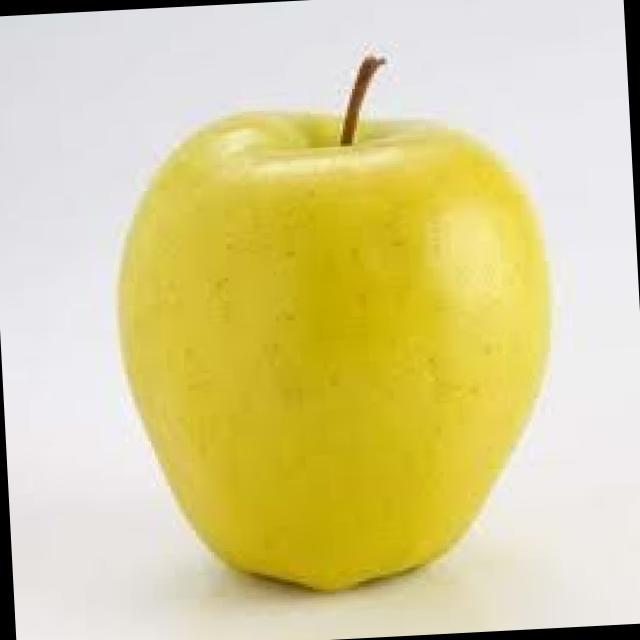Apple: (65, 26, 589, 612)
